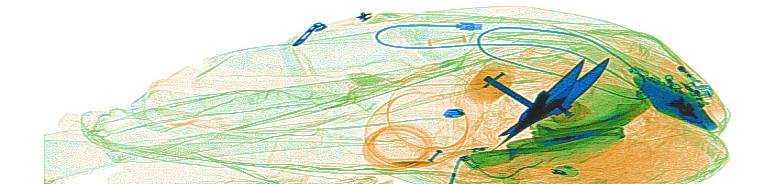lighter: (658, 51, 715, 100), (668, 58, 708, 112)
